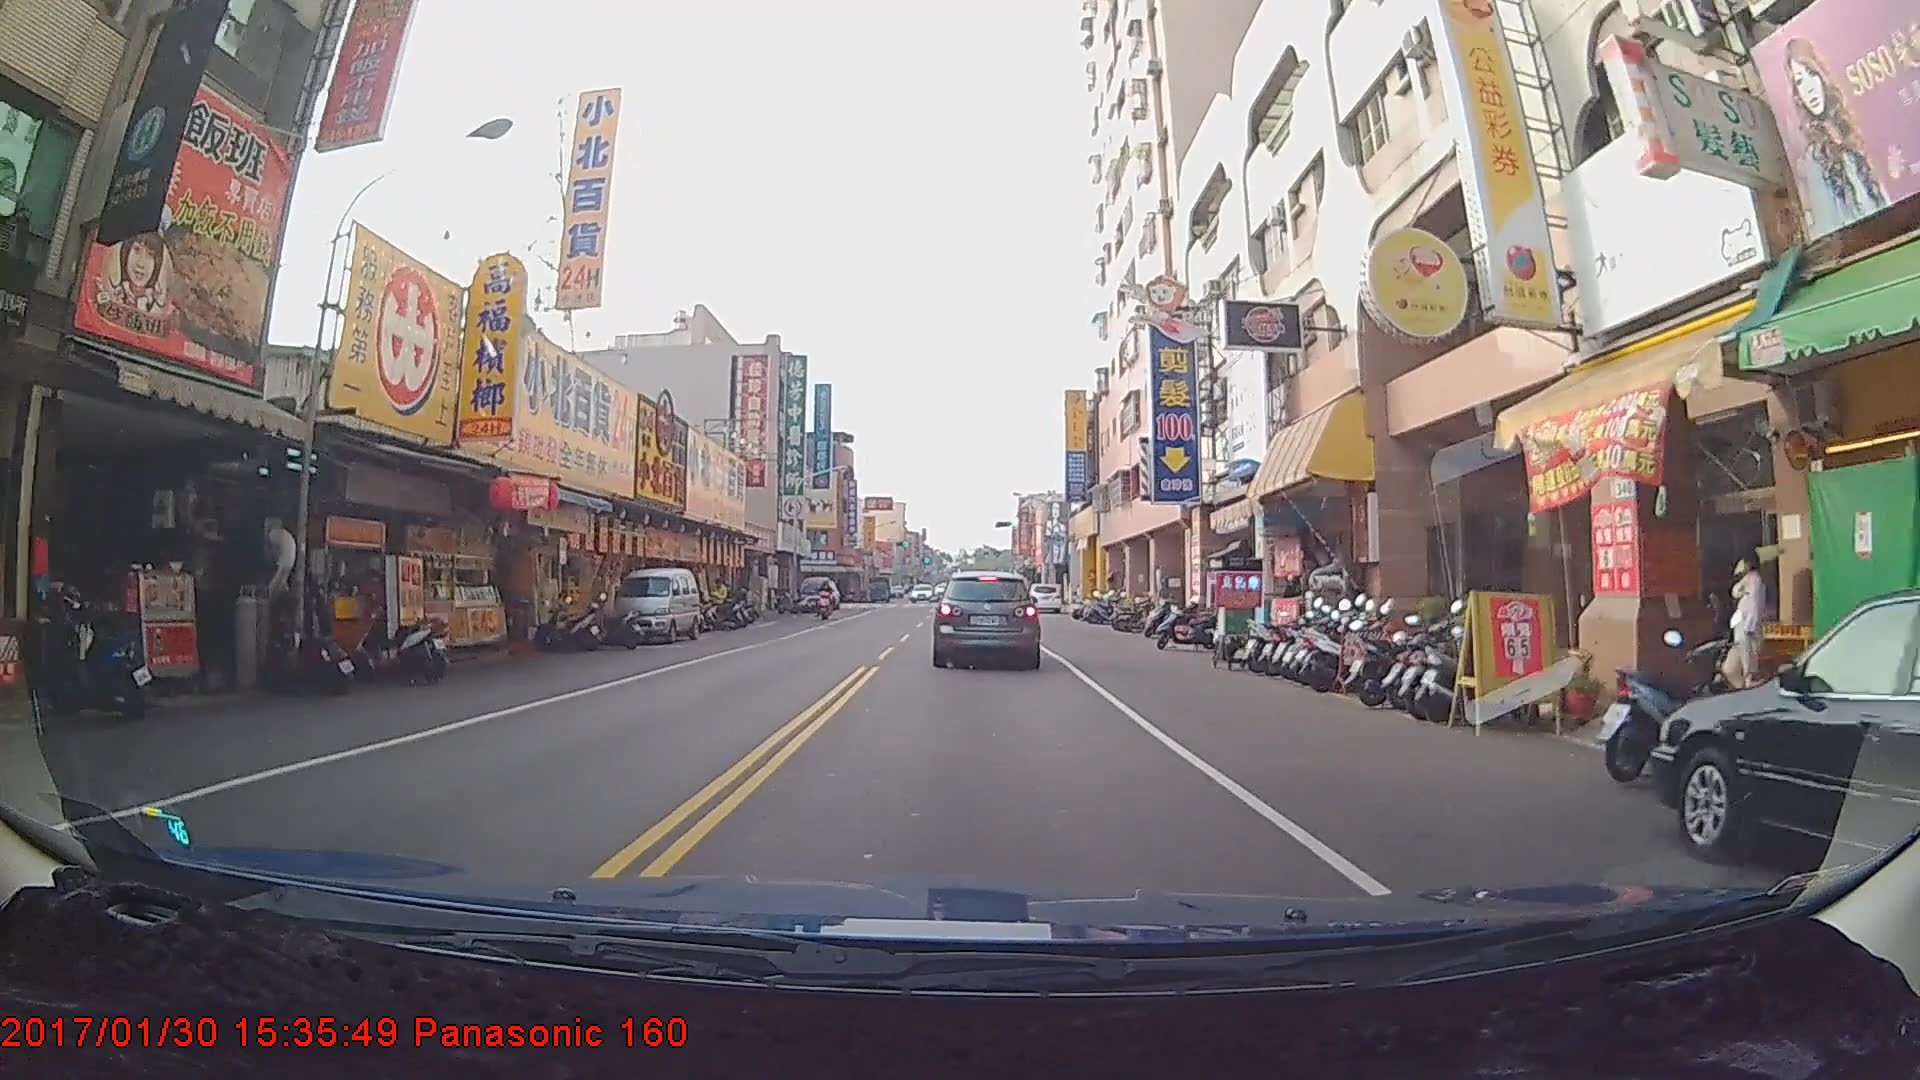pedestrian: (1719, 555, 1779, 708), (703, 575, 729, 626)
rider: (813, 574, 837, 619)
vehicle: (1651, 589, 1920, 943), (934, 569, 1041, 669), (606, 565, 699, 642), (799, 572, 834, 609), (1028, 584, 1062, 615)
